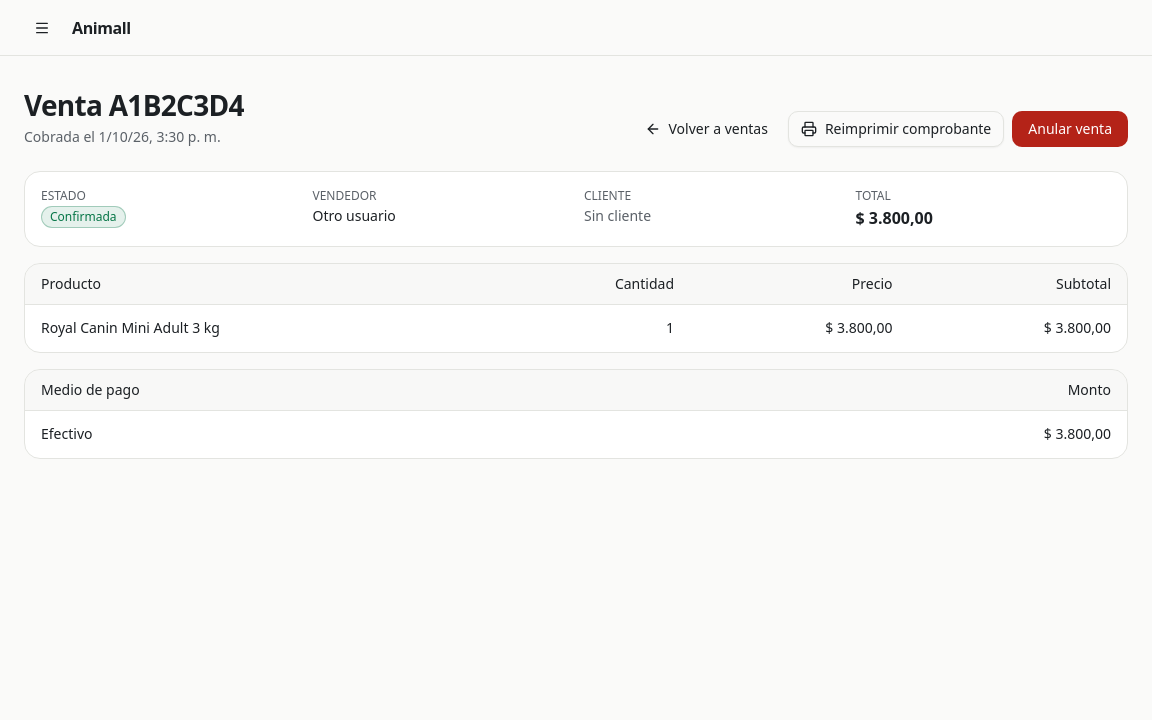
VentaDetallePage › sin motivo no se envia y el campo muestra 'Indicá el motivo'
Click the button "Anular venta".
click(1070, 129)  # box left=1012, top=111, right=1128, bottom=147
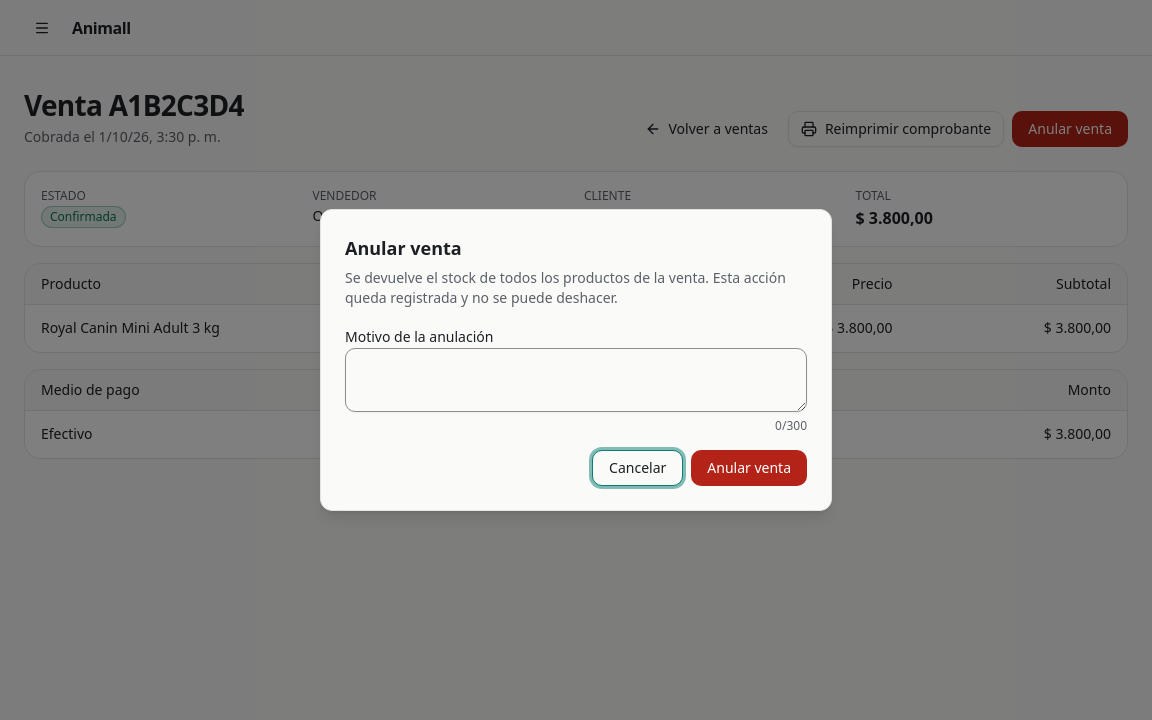
Click the button "Anular venta".
click(749, 468)  # box left=691, top=450, right=807, bottom=486
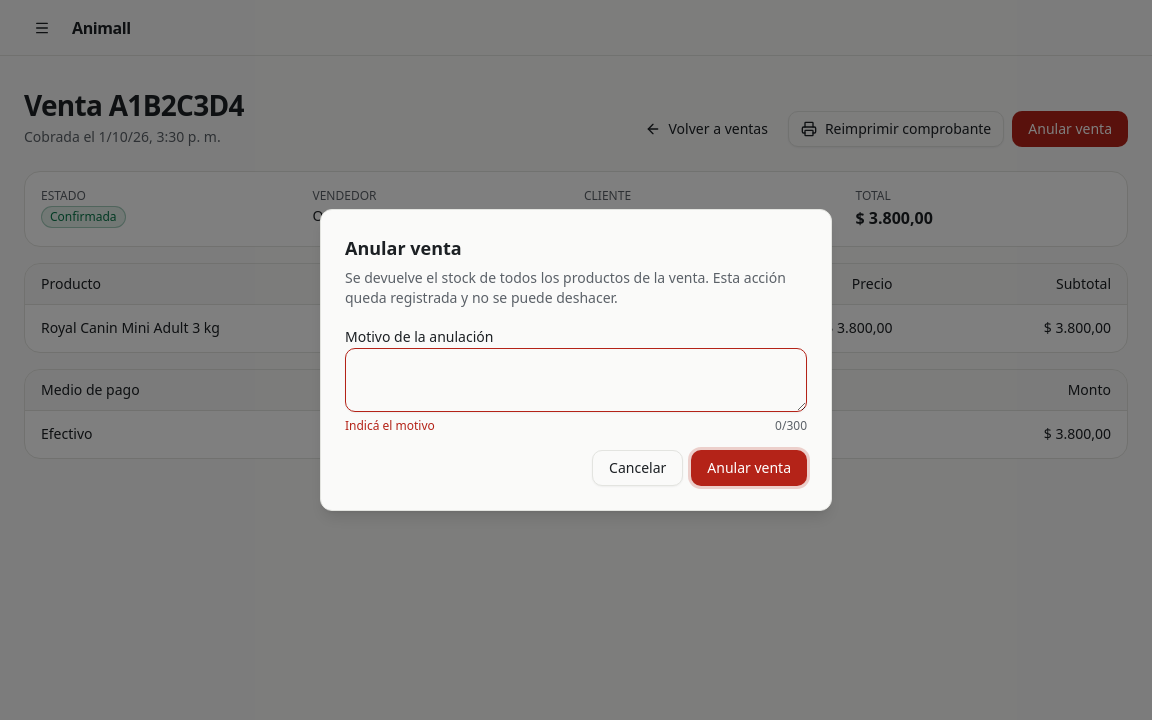
Result: the text "Indicá el motivo" is shown at left=345, top=418, right=435, bottom=434
